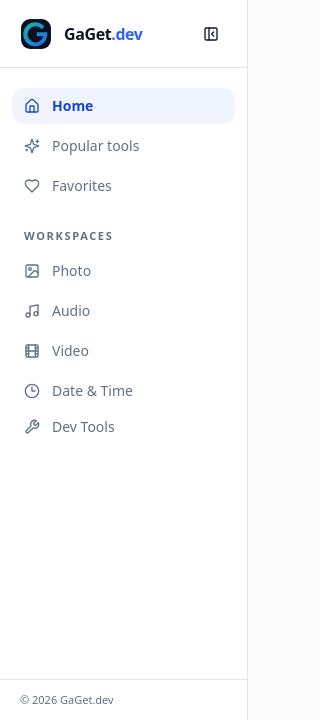
Scenario: AppSidebar › shows navigation labels when expanded and hides them when collapsed
This screenshot has width=320, height=720.
Expected: the link "Home" is shown, 12,88 -> 235,124
Expected: the link "Dev Tools" is shown, 24,416 -> 115,436
Click the button named "Collapse sidebar" at (211,34), box 195,18 -> 227,50
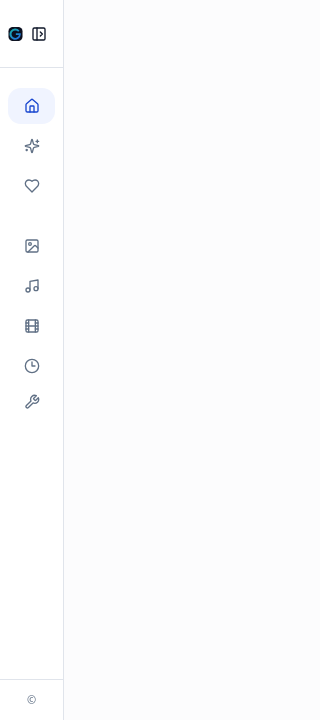
Result: the button named "Expand sidebar" is shown
Result: the text "Workspaces" is gone
Result: the text "Dev Tools" is gone
Click the button named "Expand sidebar" at (39,34), box 23,18 -> 55,50
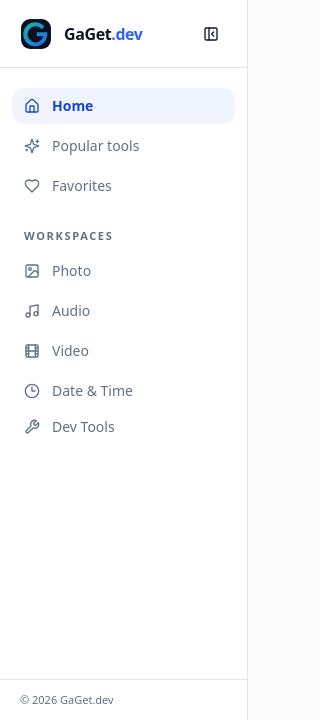
Expected: the link "Dev Tools" is shown, 24,416 -> 115,436
Result: the text "Workspaces" is shown at 24,228 -> 113,243
